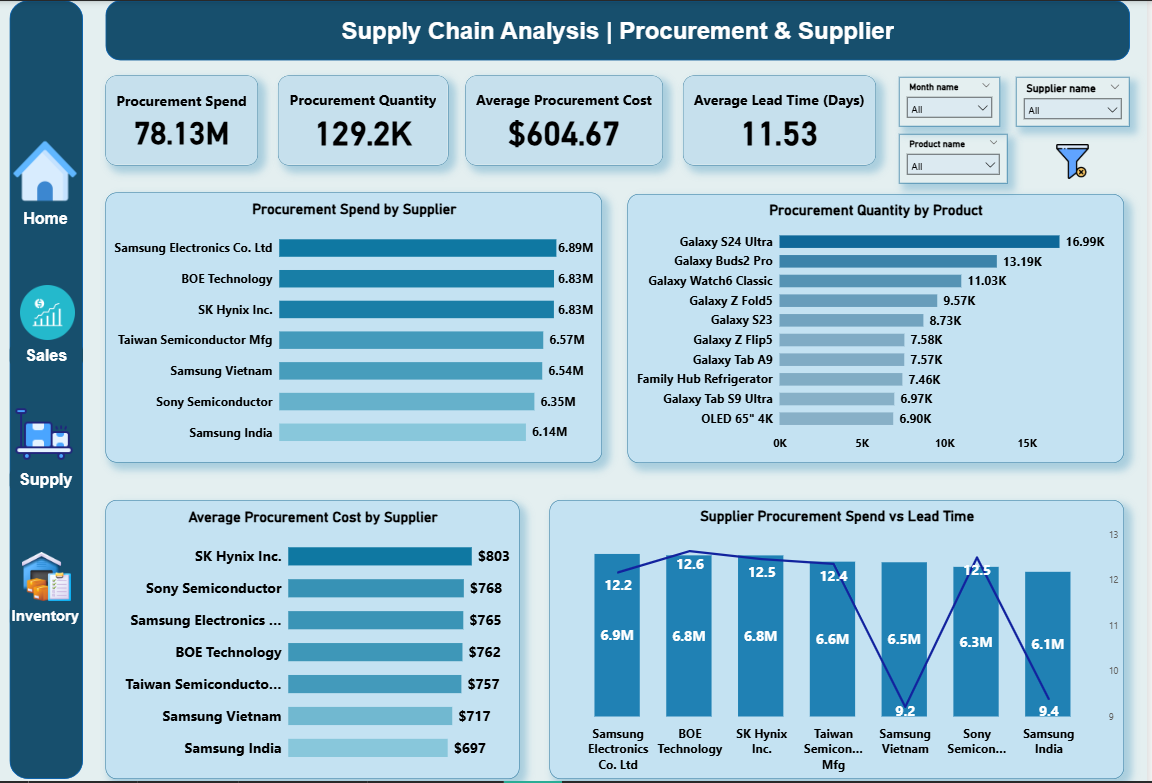

The page's visual inventory and layout, read from the dashboard file:
{"tool":"powerbi","page":{"name":"Supplier","canvas":[1530,1100],"ordinal":2},"visuals":[{"type":"cardVisual","fields":{"Data":["Measure.Total Procurement Spend"]},"box":[141.1,118.9,203.3,120],"z":0},{"type":"shape","box":[142,18,1366,80],"z":1000},{"type":"shape","box":[14,18,98,1038],"z":2000},{"type":"cardVisual","fields":{"Data":["Measure.Total Procurement Quantity"]},"box":[371.4,118.6,227.1,120],"z":3000},{"type":"cardVisual","fields":{"Data":["Measure.Average Procurement Cost"]},"box":[622.2,118.9,263.3,120],"z":4000},{"type":"cardVisual","fields":{"Data":["Measure.Average Lead Time"]},"box":[911.4,118.6,257.1,120],"z":5000},{"type":"clusteredBarChart","title":"Procurement Quantity by Product","fields":{"Category":["dim_product.product_name"],"Y":["Measure.Total Procurement Quantity"]},"box":[838.3,276.7,661.7,358.3],"z":6000},{"type":"clusteredBarChart","title":"Average Procurement Cost by Supplier","fields":{"Y":["Measure.Average Procurement Cost"],"Category":["dim_supplier.supplier_name"]},"box":[142,684,552,372],"z":7000},{"type":"lineClusteredColumnComboChart","title":"Supplier Procurement Spend vs Lead Time","fields":{"Y":["Measure.Total Procurement Spend"],"Category":["dim_supplier.supplier_name"],"Y2":["Measure.Average Lead Time"]},"box":[734,684,766,372],"z":8000},{"type":"slicer","fields":{"Values":["dim_date.month_name"]},"box":[1200.8,119.2,134.6,66.2],"z":9000},{"type":"slicer","fields":{"Values":["dim_product.product_name"]},"box":[1200.8,196.2,144.6,66.2],"z":10000},{"type":"slicer","fields":{"Values":["dim_supplier.supplier_name"]},"box":[1356.2,119.2,151.5,66.2],"z":11000},{"type":"image","box":[1391.4,204.3,78.6,57.1],"z":12000},{"type":"clusteredBarChart","title":"Procurement Spend by Supplier","fields":{"Y":["Measure.Total Procurement Spend"],"Category":["dim_supplier.supplier_name"]},"box":[142,274,662,360],"z":13000}]}

Visuals, with their boxes on the page's 1530x1100 design canvas (x1, y1, x2, y2). These are canvas units, not pixel positions in the 1152x783 screenshot, which may show the page scaled, cropped or inside an application window:
cardVisual - Measure.Total Procurement Spend: pyautogui.locateOnScreen(141, 119, 344, 239)
shape: pyautogui.locateOnScreen(142, 18, 1508, 98)
shape: pyautogui.locateOnScreen(14, 18, 112, 1056)
cardVisual - Measure.Total Procurement Quantity: pyautogui.locateOnScreen(371, 119, 598, 239)
cardVisual - Measure.Average Procurement Cost: pyautogui.locateOnScreen(622, 119, 886, 239)
cardVisual - Measure.Average Lead Time: pyautogui.locateOnScreen(911, 119, 1168, 239)
"Procurement Quantity by Product" clusteredBarChart: pyautogui.locateOnScreen(838, 277, 1500, 635)
"Average Procurement Cost by Supplier" clusteredBarChart: pyautogui.locateOnScreen(142, 684, 694, 1056)
"Supplier Procurement Spend vs Lead Time" lineClusteredColumnComboChart: pyautogui.locateOnScreen(734, 684, 1500, 1056)
slicer - dim_date.month_name: pyautogui.locateOnScreen(1201, 119, 1335, 185)
slicer - dim_product.product_name: pyautogui.locateOnScreen(1201, 196, 1345, 262)
slicer - dim_supplier.supplier_name: pyautogui.locateOnScreen(1356, 119, 1508, 185)
image: pyautogui.locateOnScreen(1391, 204, 1470, 261)
"Procurement Spend by Supplier" clusteredBarChart: pyautogui.locateOnScreen(142, 274, 804, 634)
